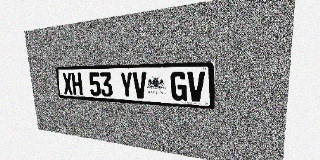3: (100, 72, 113, 97)
5: (89, 72, 101, 96)
G: (170, 71, 187, 101)
H: (71, 73, 83, 95)
V: (187, 71, 205, 102), (132, 72, 147, 99)
X: (62, 73, 73, 95)
Y: (119, 72, 133, 98)
